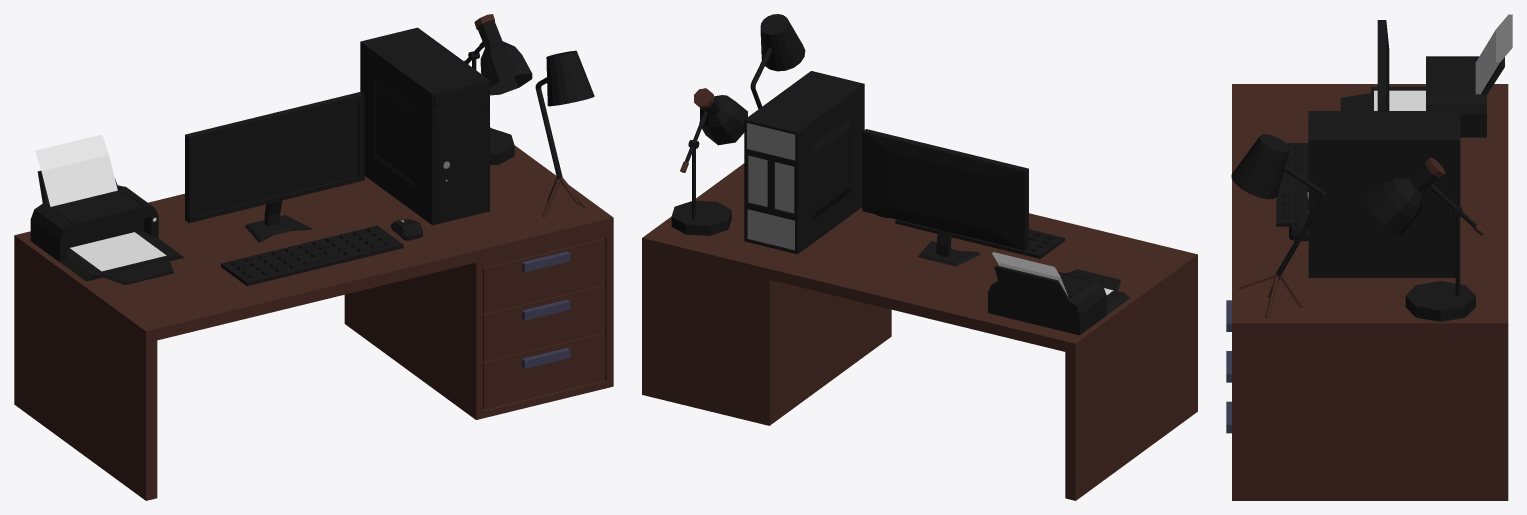
Rendered from Computer Setup.fbx.
3 views of the same model, side by side, from view 1: azimuth 30°, elevation 25°; view 2: azimuth 150°, elevation 25°; view 3: azimuth 270°, elevation 25° (orthographic). The views are drawn at different scales.
Parts seen in each view (by area): view 1: Computer Setup; view 2: Computer Setup; view 3: Computer Setup.
Boxes of the visible parts, <box> form: Computer Setup: <box>14,14,613,500</box>; Computer Setup: <box>642,14,1197,500</box>; Computer Setup: <box>1226,14,1512,500</box>.
Bounding box in the file's own units: 250 × 169 × 126.
